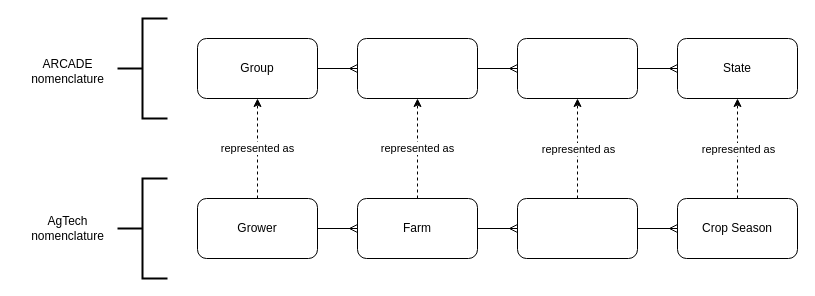
Some shapes in this 815 by 296 pixel diagram are drawn without their labels. The box of each missing label's shape, as (x1, y1, x2, y2) in pixels:
Field: (516, 198, 638, 258)
Polygon: (516, 38, 638, 98)
Region: (356, 38, 478, 98)
